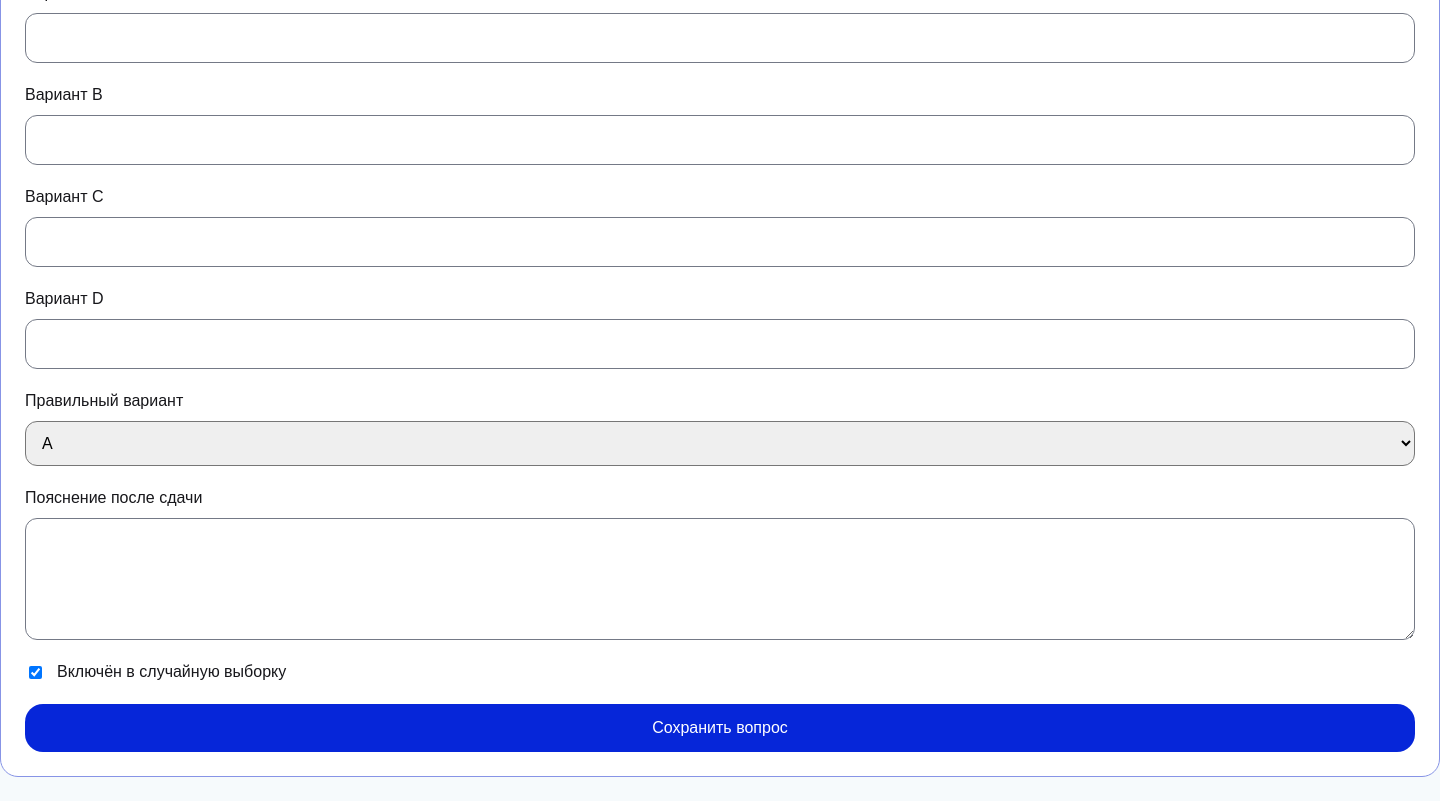
it: quiz authoring › validates empty questions without making a request
This screenshot has width=1440, height=801.
(page scrolled)
Click the button "Сохранить вопрос". click: [720, 728]
box: [25,704,1415,752]
(page scrolled)
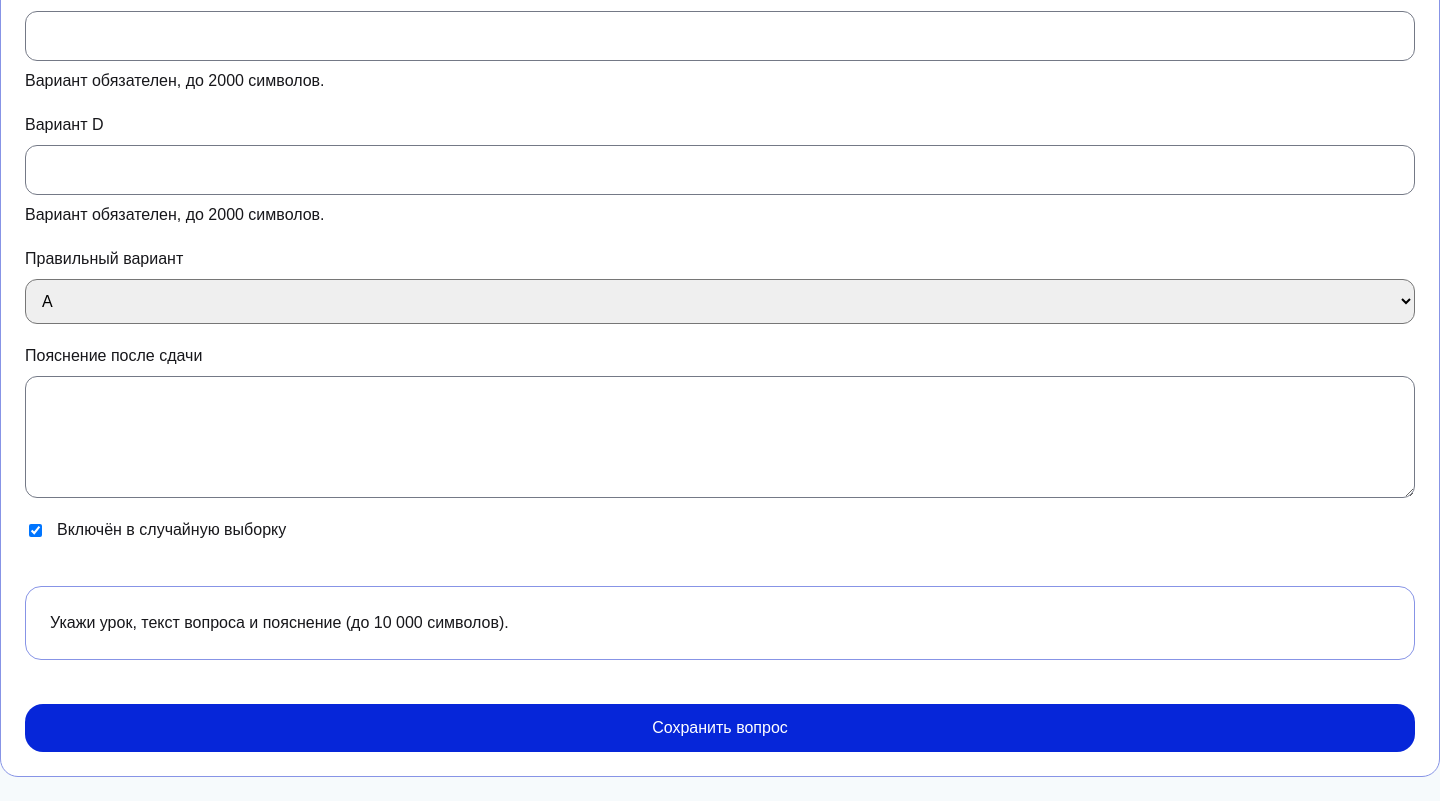
Expected: the text "Укажи урок, текст вопроса и пояснение (до 10 000 символов)." is shown, [25,586,1415,660]
